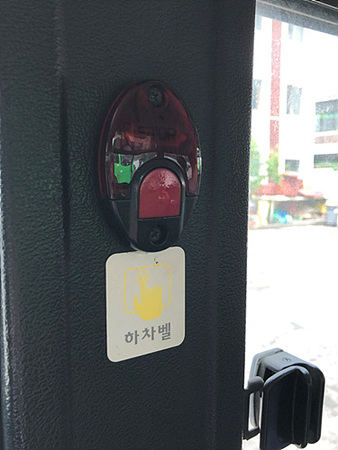bell: (98, 77, 204, 254)
